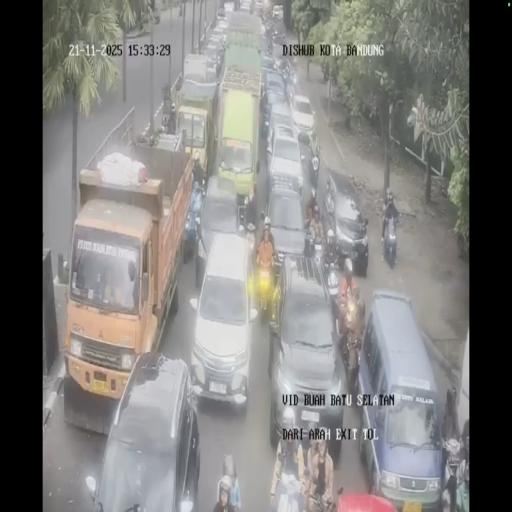3: (213, 68, 263, 208), (173, 78, 218, 180)
car: (356, 289, 442, 502), (90, 353, 200, 509), (268, 256, 344, 450), (318, 166, 369, 276), (195, 174, 245, 283), (264, 184, 306, 272), (266, 125, 303, 196), (289, 93, 315, 138), (263, 70, 287, 112), (203, 41, 225, 78), (260, 49, 276, 73), (214, 15, 230, 37), (271, 3, 284, 20), (222, 0, 236, 15), (239, 0, 253, 14), (254, 0, 264, 14)
truck: (441, 430, 468, 509), (323, 261, 342, 321), (381, 208, 399, 267), (257, 262, 275, 317), (237, 190, 253, 232), (311, 232, 327, 272), (324, 179, 336, 222), (308, 148, 319, 189), (265, 28, 273, 54)
